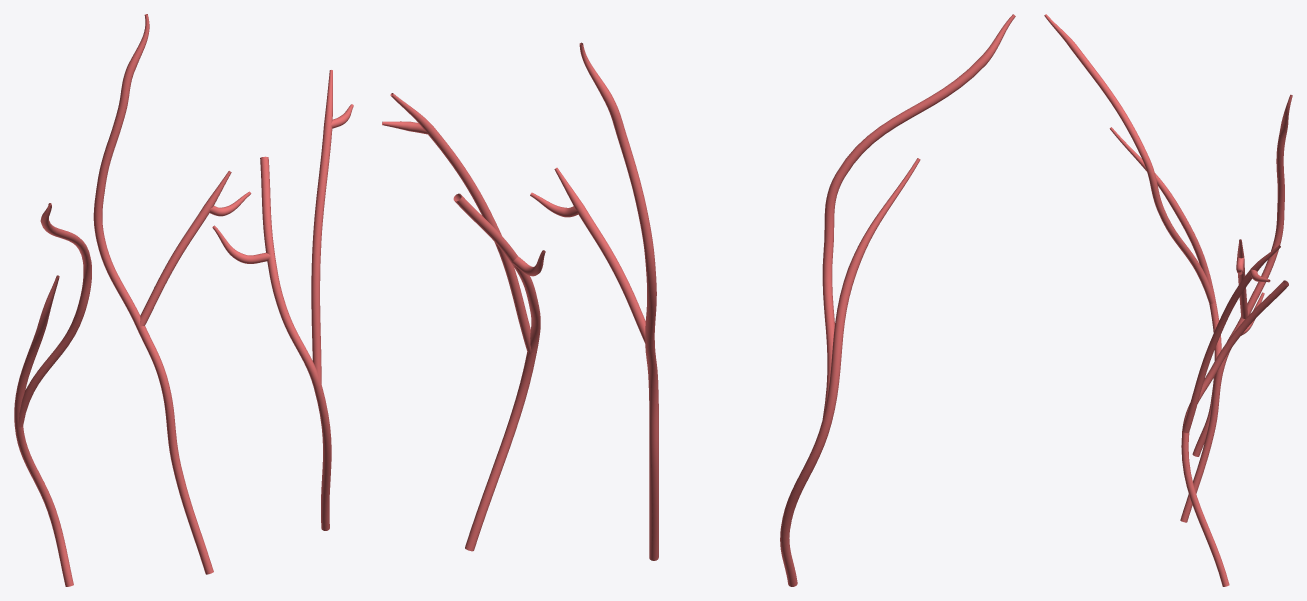
Rendered from Distal_lateral_striate_branches.r_BezierCurve.070.glb.
3 views of the same model, side by side, from view 1: azimuth 30°, elevation 25°; view 2: azimuth 150°, elevation 25°; view 3: azimuth 270°, elevation 25° (orthographic). The views are drawn at different scales.
Visible parts, largest first — view 1: Distal_lateral_striate_branches.r_BezierCurve.070; view 2: Distal_lateral_striate_branches.r_BezierCurve.070; view 3: Distal_lateral_striate_branches.r_BezierCurve.070.
Part boxes in pixels (x1=…): Distal_lateral_striate_branches.r_BezierCurve.070: x1=14, y1=14, x2=353, y2=586; Distal_lateral_striate_branches.r_BezierCurve.070: x1=382, y1=14, x2=1015, y2=586; Distal_lateral_striate_branches.r_BezierCurve.070: x1=1044, y1=14, x2=1292, y2=586.
Bounding box in the file's own units: 0.0116 × 0.0132 × 0.00683.
